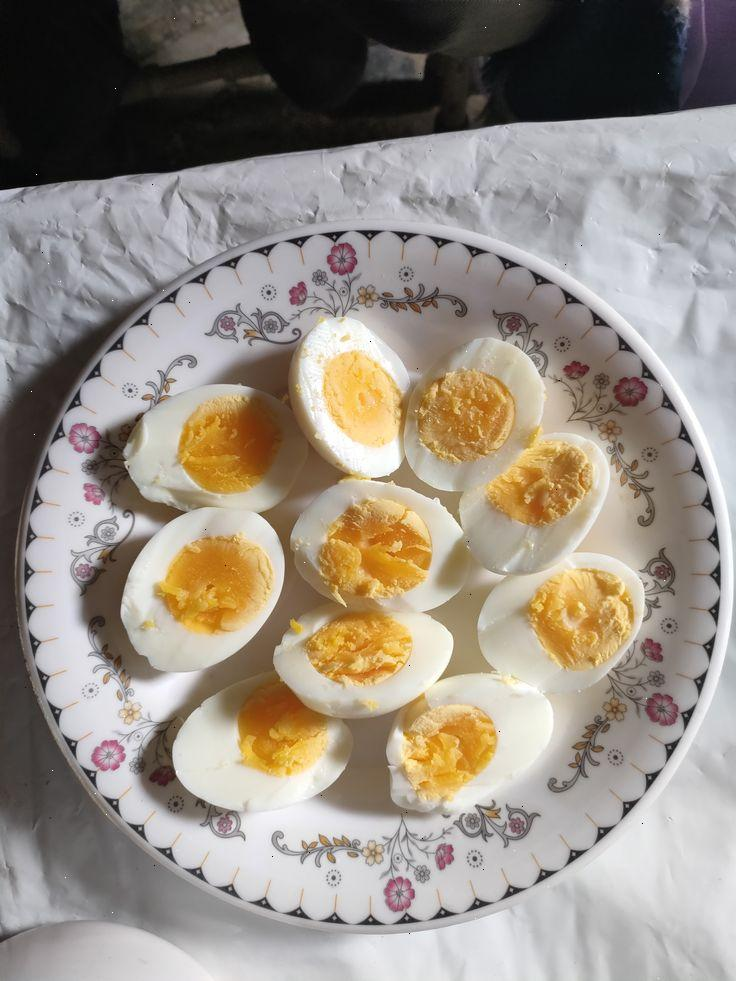eggs: (113, 321, 626, 824)
